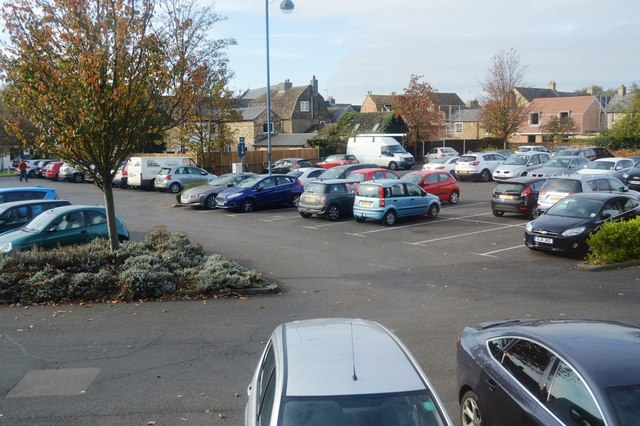Car: (244, 318, 453, 426), (456, 318, 640, 426), (0, 203, 130, 261), (524, 191, 640, 254), (353, 180, 441, 226), (537, 174, 634, 213), (215, 174, 303, 213), (178, 172, 256, 209), (297, 179, 359, 221), (0, 199, 71, 234), (125, 154, 196, 189), (346, 135, 415, 170), (490, 177, 546, 218), (401, 170, 460, 205), (492, 152, 551, 181), (154, 166, 216, 193), (455, 152, 506, 182), (528, 156, 590, 178), (578, 157, 637, 179), (0, 187, 60, 205), (319, 163, 377, 179), (348, 167, 399, 183), (262, 158, 313, 174), (287, 167, 325, 187), (422, 157, 460, 176), (315, 154, 359, 169), (551, 146, 596, 160), (110, 157, 128, 189), (424, 147, 460, 162), (622, 159, 640, 188), (69, 163, 86, 182), (46, 161, 63, 179), (32, 159, 51, 175), (515, 145, 553, 153), (84, 164, 100, 181), (26, 160, 39, 178), (41, 161, 55, 177), (59, 160, 69, 180), (15, 168, 21, 176)
